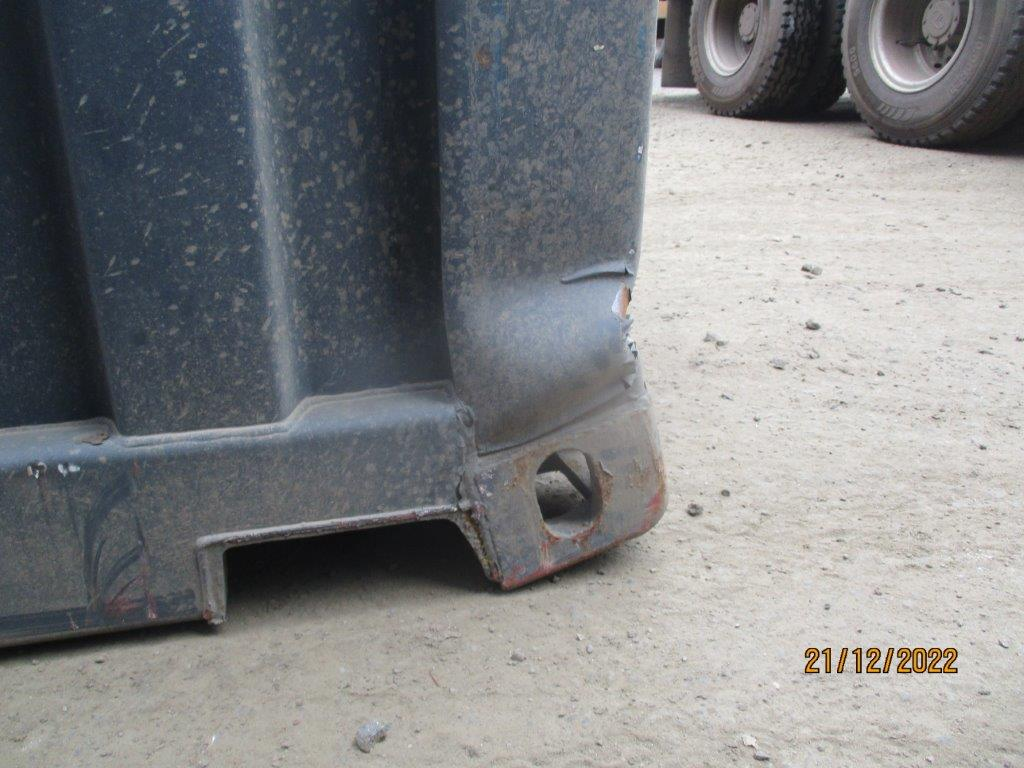dented: (435, 184, 659, 443)
